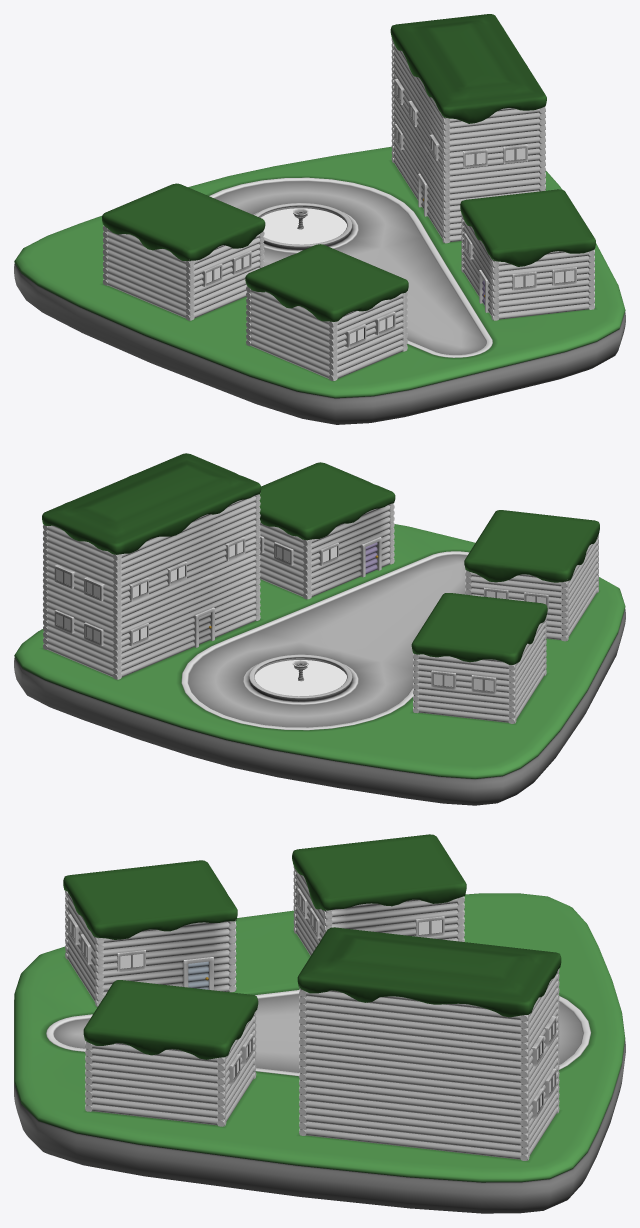
Rendered from HikeGardenFooStepB.fbx.
3 views of the same model, one above another, from view 1: azimuth 30°, elevation 25°; view 2: azimuth 150°, elevation 25°; view 3: azimuth 270°, elevation 25° (orthographic). The views are drawn at different scales.
Parts seen in each view (by area): view 1: HikeGardenFooStepB; view 2: HikeGardenFooStepB; view 3: HikeGardenFooStepB.
Part boxes in pixels (left/top/right/bottom): HikeGardenFooStepB: left=14, top=14, right=625, bottom=424; HikeGardenFooStepB: left=14, top=453, right=625, bottom=805; HikeGardenFooStepB: left=14, top=834, right=625, bottom=1213.
Bounding box in the file's own units: 878421 × 303295 × 795018.
